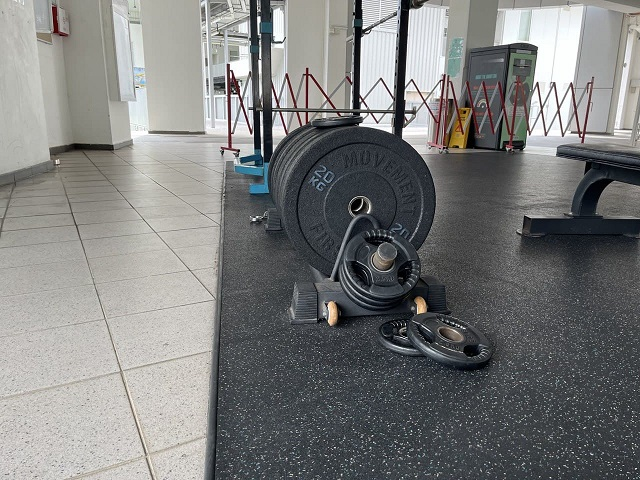weights: (279, 127, 437, 277), (332, 225, 423, 311), (407, 309, 494, 370), (310, 116, 363, 127)
